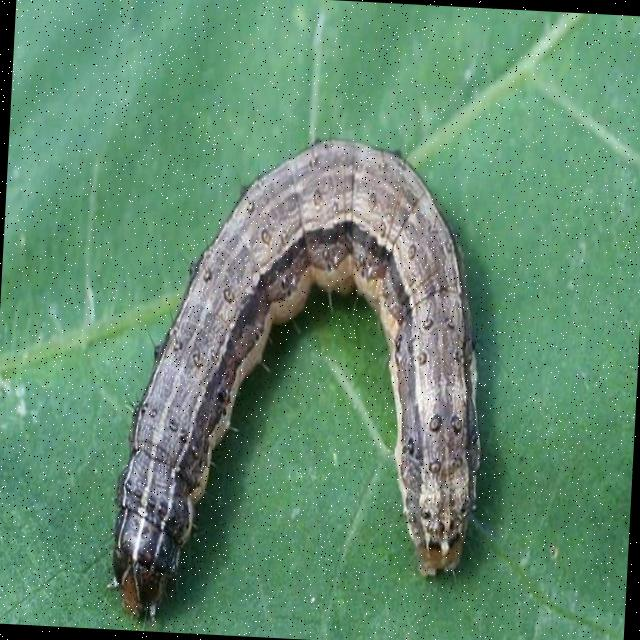worm: (106, 126, 499, 640)
